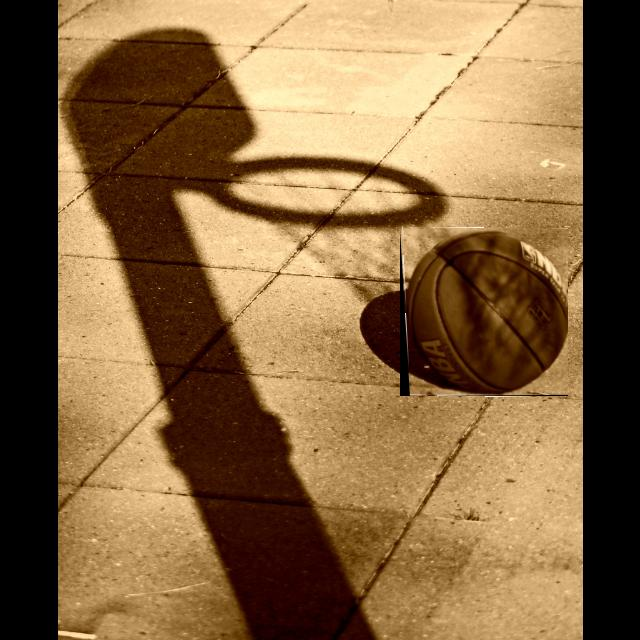Football: (400, 228, 568, 396)
